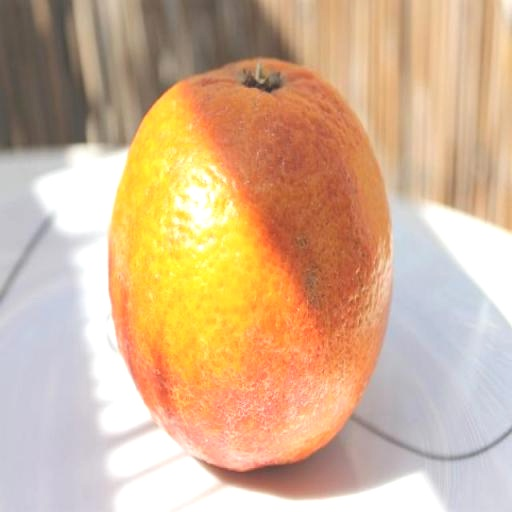fruit: (109, 60, 391, 470)
